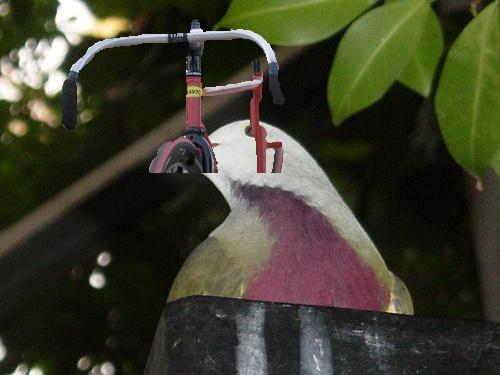tampered: (63, 20, 285, 173)
